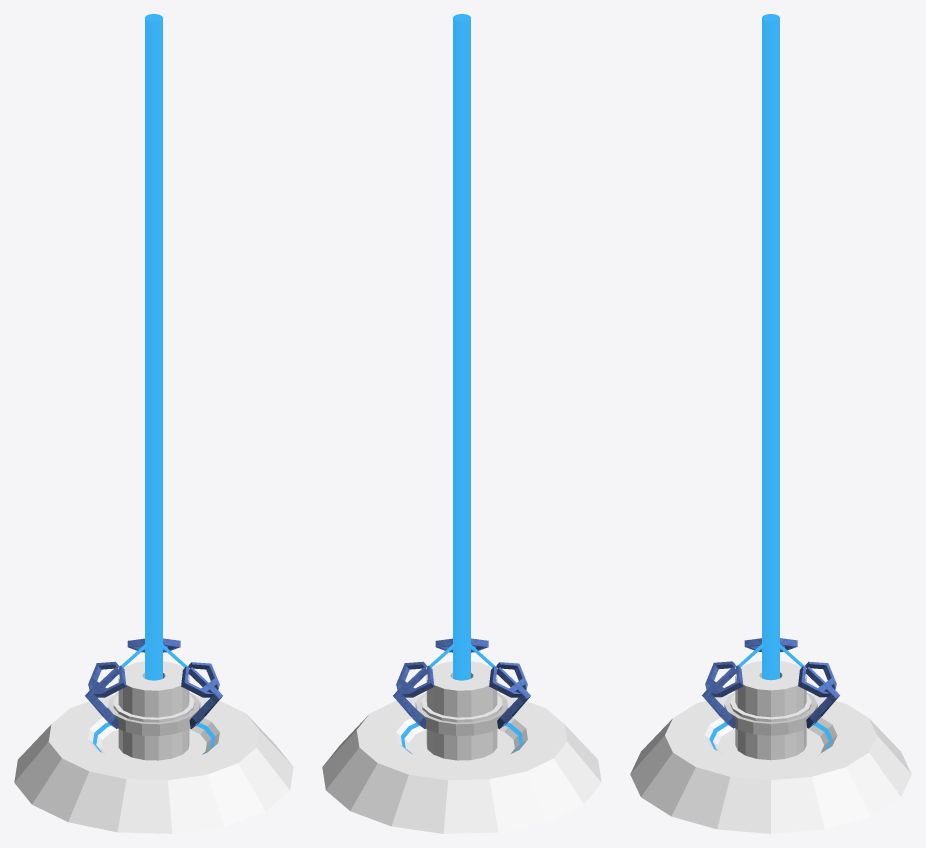
Rendered from power_core.glb.
3 views of the same model, side by side, from view 1: azimuth 30°, elevation 25°; view 2: azimuth 150°, elevation 25°; view 3: azimuth 270°, elevation 25° (orthographic).
Parts seen in each view (by area): view 1: Base, Power core, Cube; view 2: Base, Power core, Cube; view 3: Base, Power core, Cube.
Boxes of the visible parts, box(x1,y1,x2,y2) form: Base: box(14, 661, 293, 833); Power core: box(145, 14, 162, 680); Cube: box(85, 638, 222, 735); Base: box(322, 661, 601, 833); Power core: box(453, 14, 470, 680); Cube: box(393, 638, 530, 735); Base: box(630, 661, 911, 833); Power core: box(762, 14, 779, 680); Cube: box(702, 638, 839, 735).
Size of what is drawn, in the model's own units: 4.31 by 13.2 by 4.31.
Materials: 3 (1 with a texture image).
